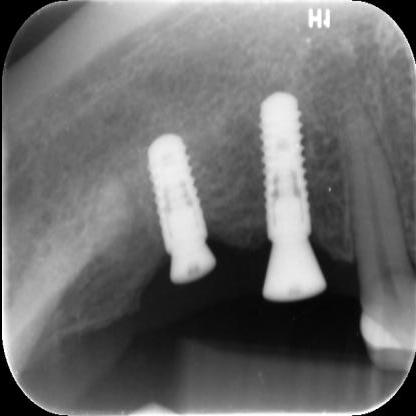ITI: (255, 91, 317, 243), (139, 127, 210, 256)
